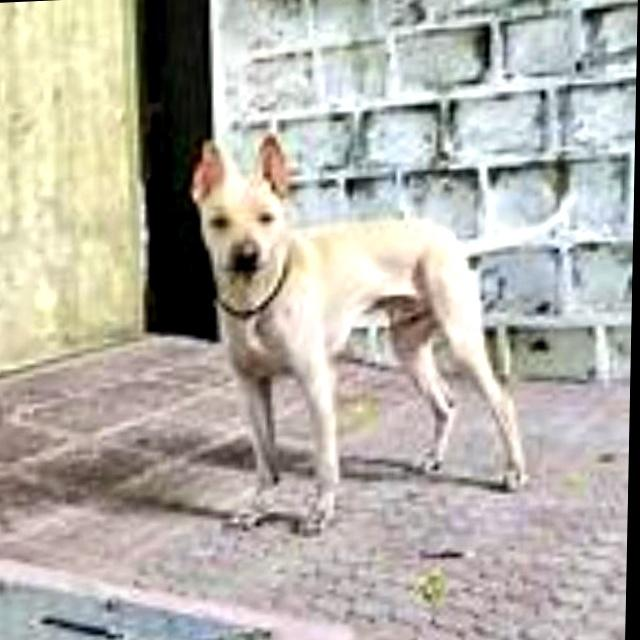dog: (192, 124, 626, 594)
